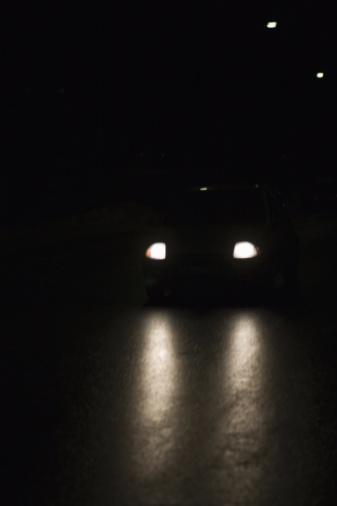car: (136, 175, 301, 310)
